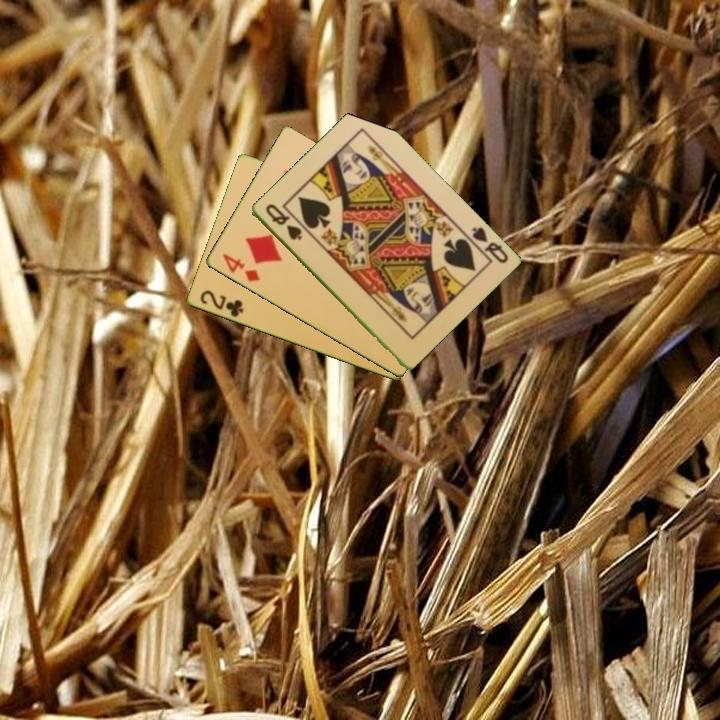2c: (196, 287, 246, 320)
4d: (219, 250, 262, 285)
Qs: (462, 223, 511, 266), (262, 200, 305, 243)
